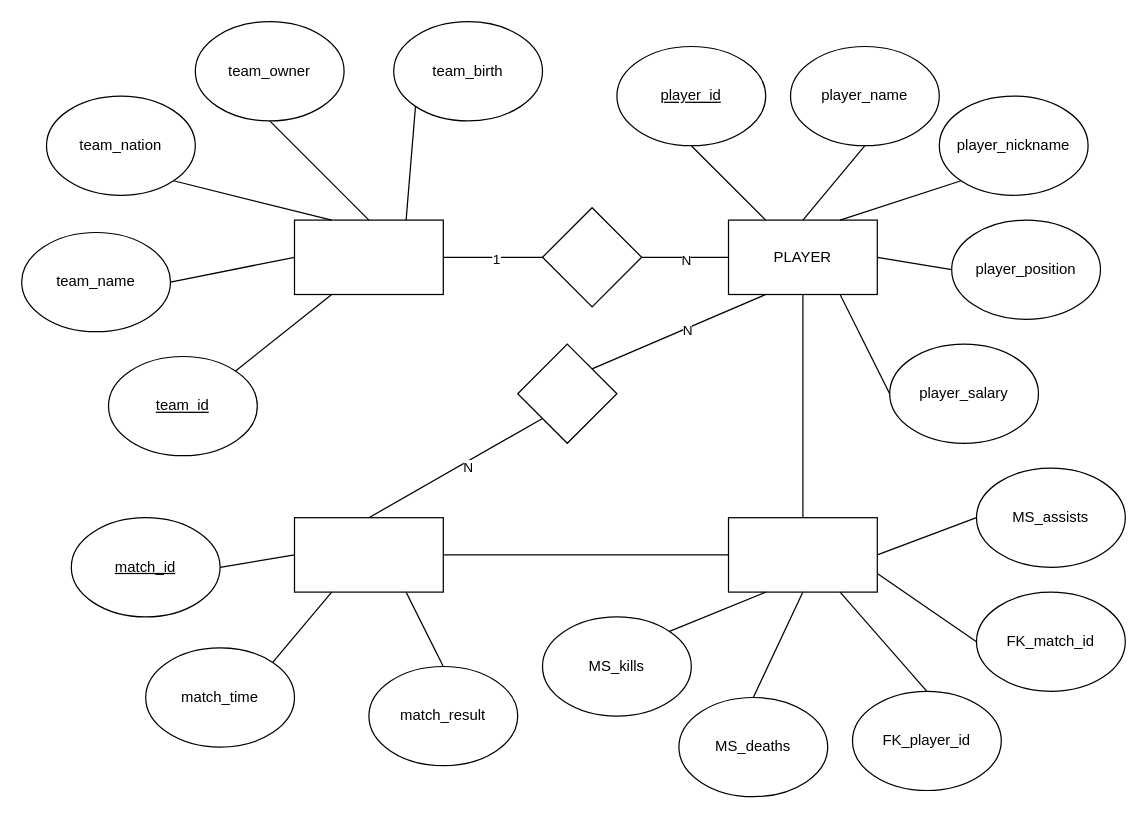
Some shapes in this 1147 by 818 pixel diagram are drawn without their labels. The shapes that lost their labels are listed below. From the top down, each one's box as (x1, y1, x2, y2) in pixels, then its label:
(293, 219, 443, 294): TEAM
(541, 206, 642, 307): PLAY
(516, 343, 617, 443): START
(293, 516, 443, 592): MATCHS
(727, 516, 877, 592): MATCH_STATISTIC
